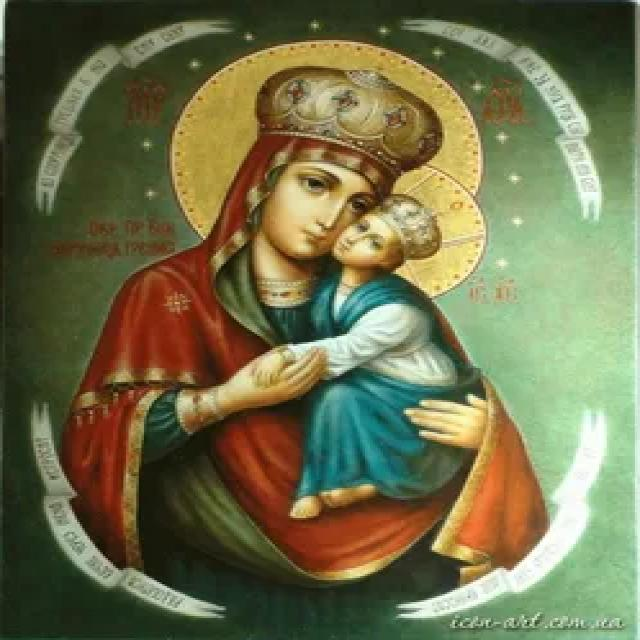mother of god: (59, 104, 552, 596)
